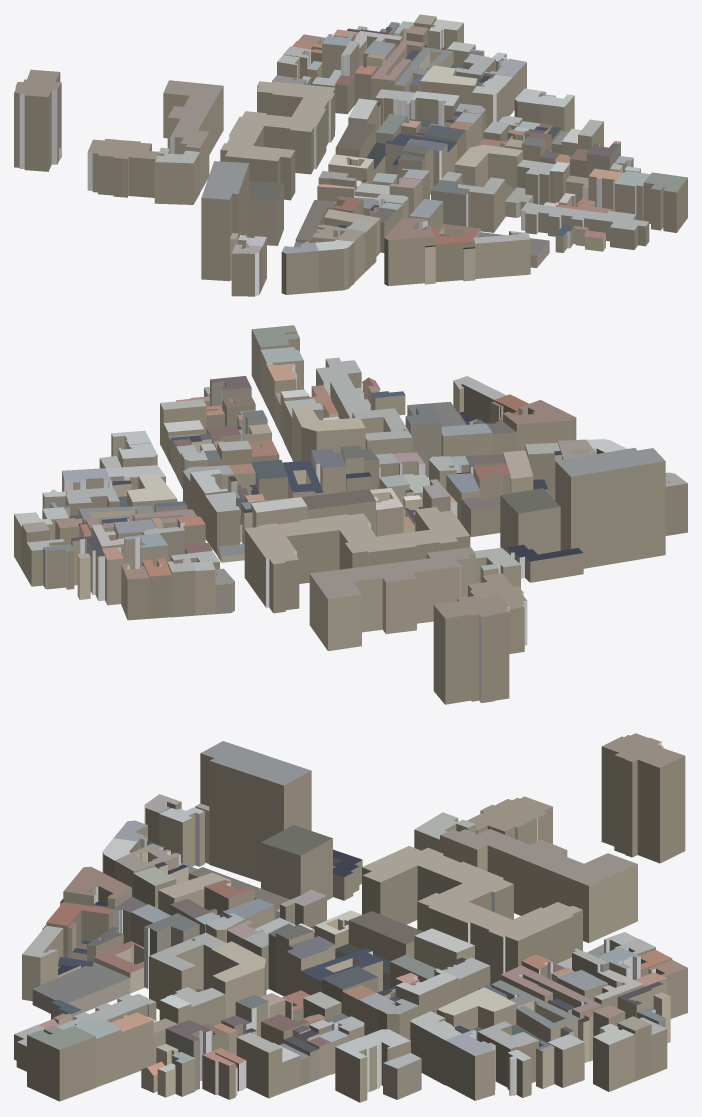
3 views of the same model, one above another, from view 1: azimuth 30°, elevation 25°; view 2: azimuth 150°, elevation 25°; view 3: azimuth 270°, elevation 25° (orthographic). The views are drawn at different scales.
Parts seen in each view (by area): view 1: tuile; view 2: tuile; view 3: tuile.
Part boxes in pixels (<box>): tuile: <box>14,14,687,296</box>; tuile: <box>14,325,687,704</box>; tuile: <box>14,733,687,1102</box>.
Bounding box in the file's own units: 263 × 45.35 × 266.
